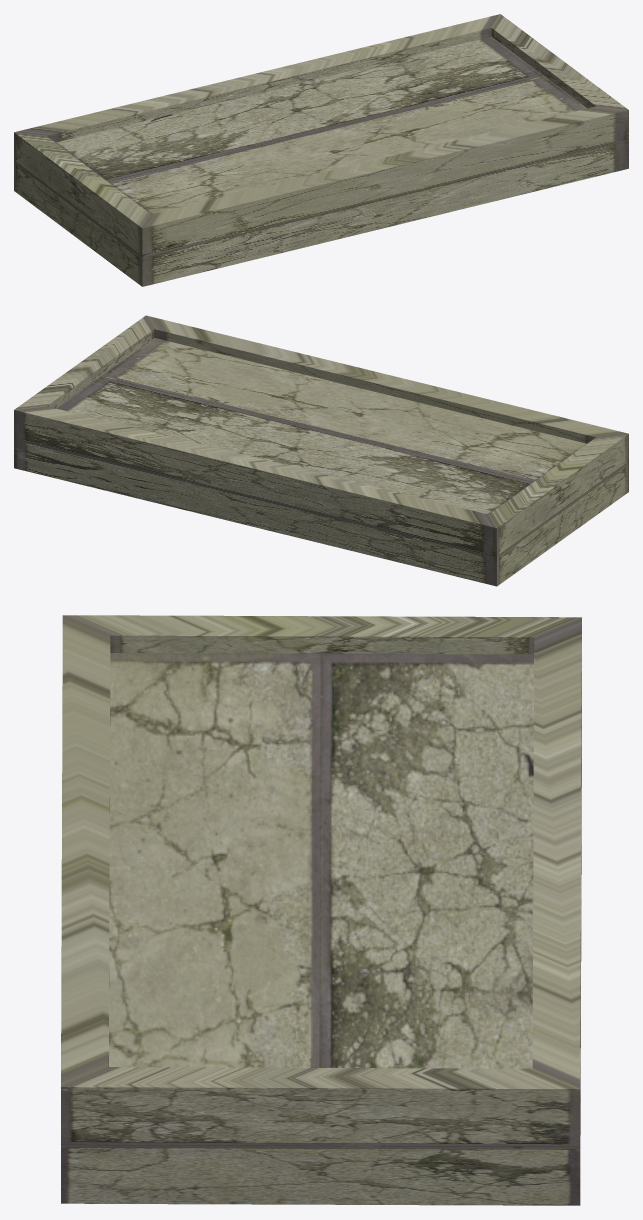
The model's file is SM_Corridor_08_movingplatform.fbx.
The picture shows the model from 3 angles, top to bottom: view 1: azimuth 30°, elevation 25°; view 2: azimuth 150°, elevation 25°; view 3: azimuth 270°, elevation 25°; orthographic projection. The views are drawn at different scales.
Visible parts, largest first — view 1: SM_Corridor_08_movingplatform; view 2: SM_Corridor_08_movingplatform; view 3: SM_Corridor_08_movingplatform.
Boxes of the visible parts, x1,y1,x2,y2 form: SM_Corridor_08_movingplatform: (14,14,628,286); SM_Corridor_08_movingplatform: (14,315,628,586); SM_Corridor_08_movingplatform: (61,615,581,1205).
Size of the model in its own units: 559 by 64.15 by 260.
